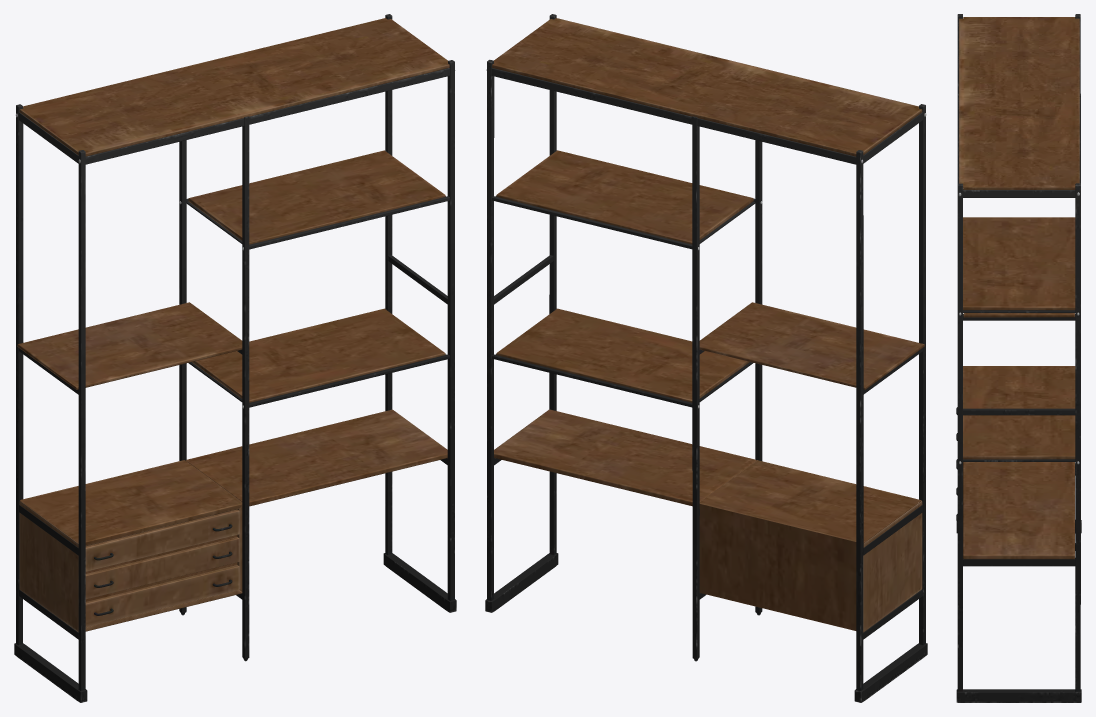
Rendered from steel-shelves.8a6c9b023b.glb.
3 views of the same model, side by side, from view 1: azimuth 30°, elevation 25°; view 2: azimuth 150°, elevation 25°; view 3: azimuth 270°, elevation 25° (orthographic). The views are drawn at different scales.
Parts seen in each view (by area): view 1: steel_frame_shelves_03; view 2: steel_frame_shelves_03; view 3: steel_frame_shelves_03.
Boxes of the visible parts, left/top/right/bottom form: steel_frame_shelves_03: left=14, top=14, right=456, bottom=702; steel_frame_shelves_03: left=485, top=14, right=927, bottom=702; steel_frame_shelves_03: left=956, top=14, right=1081, bottom=702.
Bounding box in the file's own units: 1.41 × 1.96 × 0.4328.
Materials: 2 (2 with a texture image).
